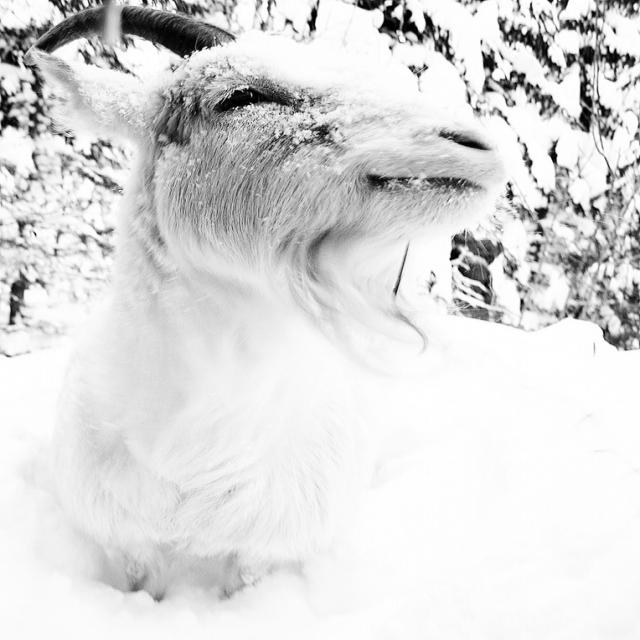Goat: (9, 0, 544, 623)
